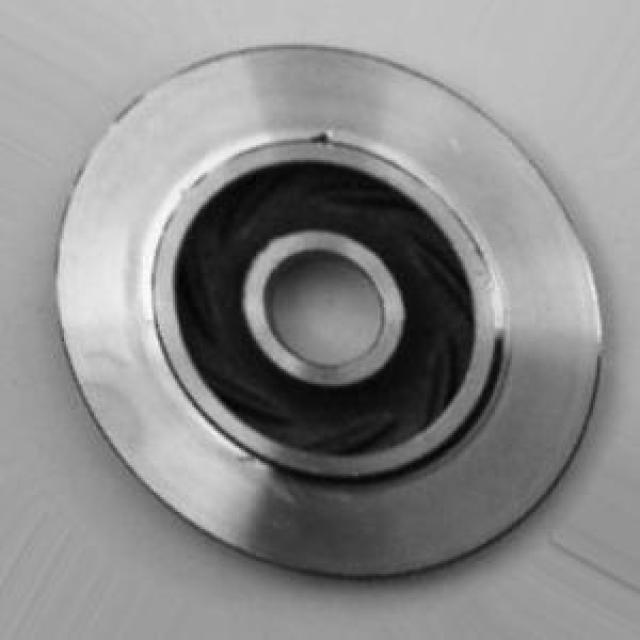Defect: (304, 122, 335, 149)
